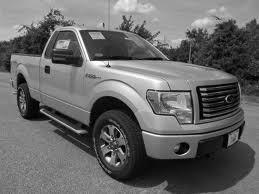car: (9, 25, 247, 182)
